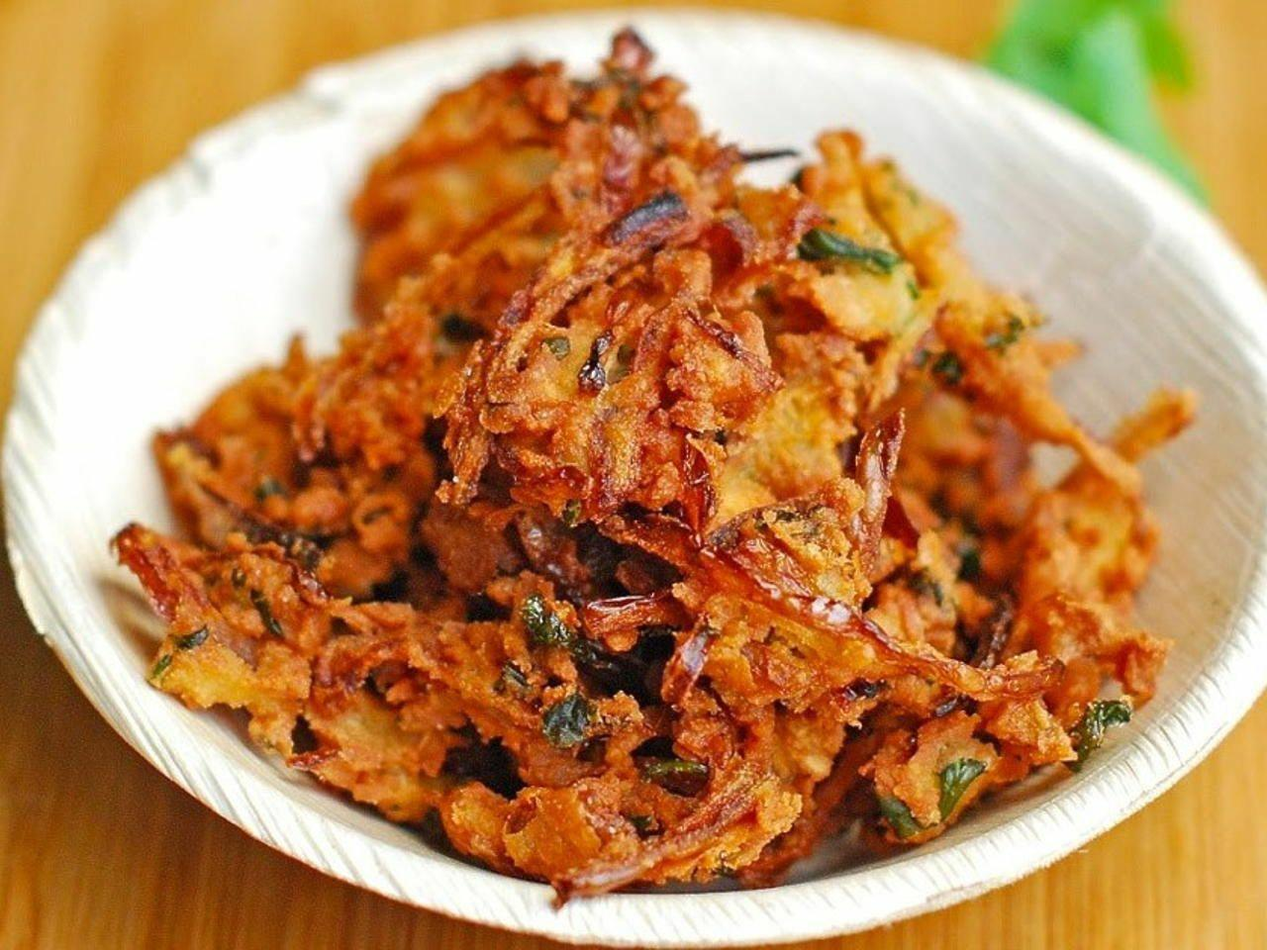OnionPakoda: (111, 22, 1197, 895)
